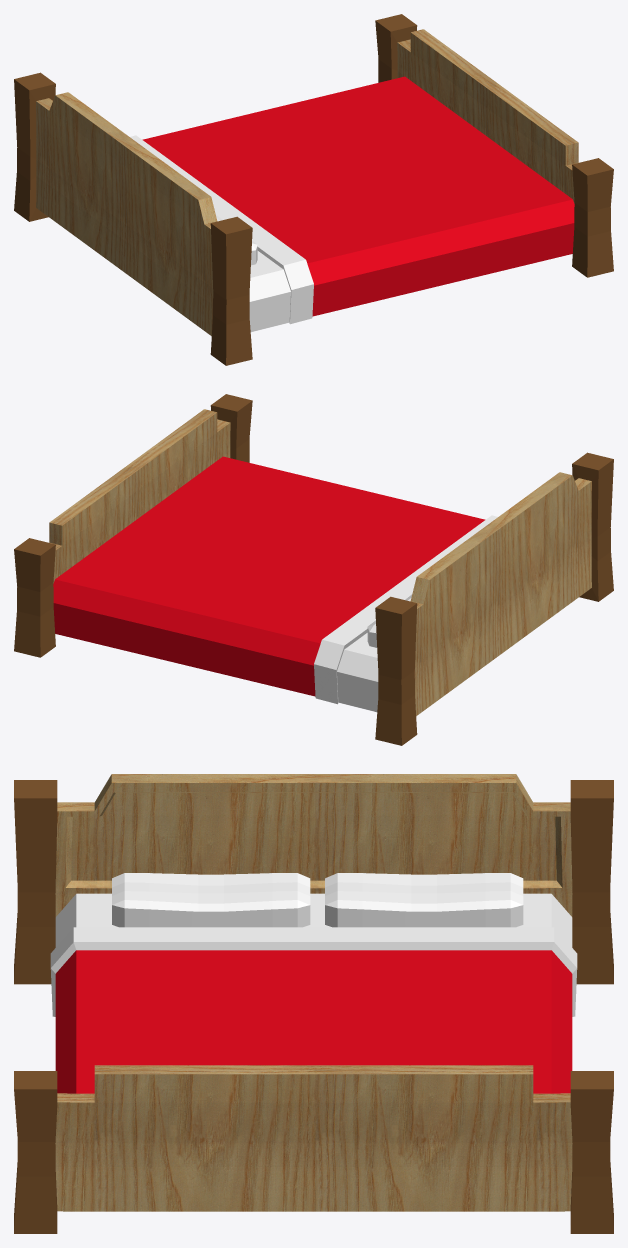
Rendered from BedKing.fbx.
3 renders of one model, top to bottom at view 1: azimuth 30°, elevation 25°; view 2: azimuth 150°, elevation 25°; view 3: azimuth 270°, elevation 25°, orthographic. The views are drawn at different scales.
Parts seen in each view (by area): view 1: BedKing; view 2: BedKing; view 3: BedKing.
Part boxes in pixels (left/top/right/bottom): BedKing: left=14, top=14, right=613, bottom=365; BedKing: left=14, top=394, right=613, bottom=745; BedKing: left=14, top=774, right=613, bottom=1233.
Bounding box in the file's own units: 143 × 48.98 × 135.
